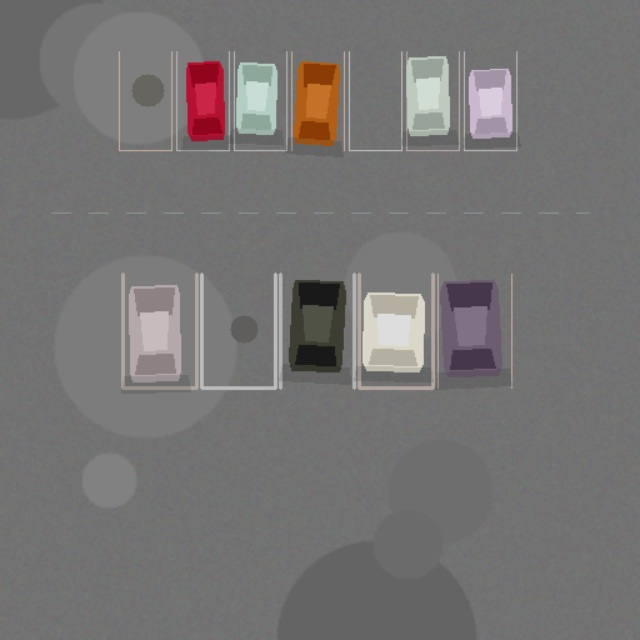space-empty: (201, 274, 275, 388), (119, 51, 171, 150), (349, 51, 401, 150)
space-occupied: (122, 274, 196, 388), (280, 274, 354, 388), (359, 274, 432, 388), (438, 274, 511, 388), (176, 51, 229, 150), (291, 51, 344, 150), (406, 51, 459, 150), (234, 51, 286, 150), (464, 51, 516, 150)
